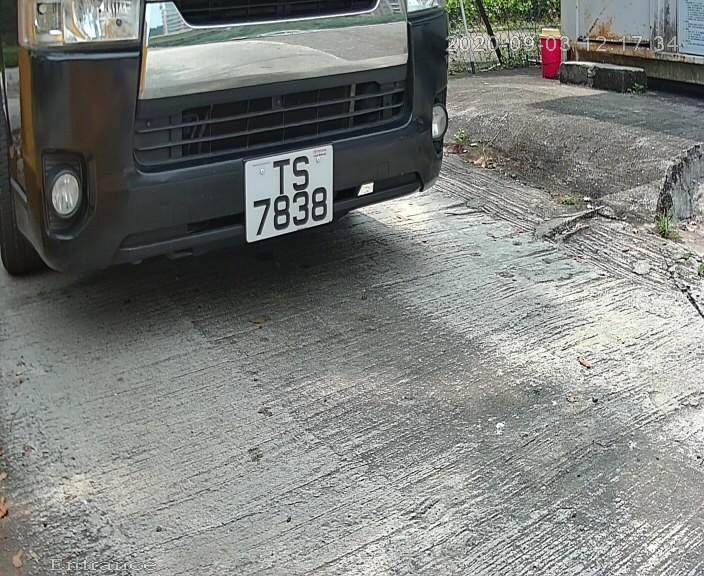License Plate: (236, 147, 343, 242)
